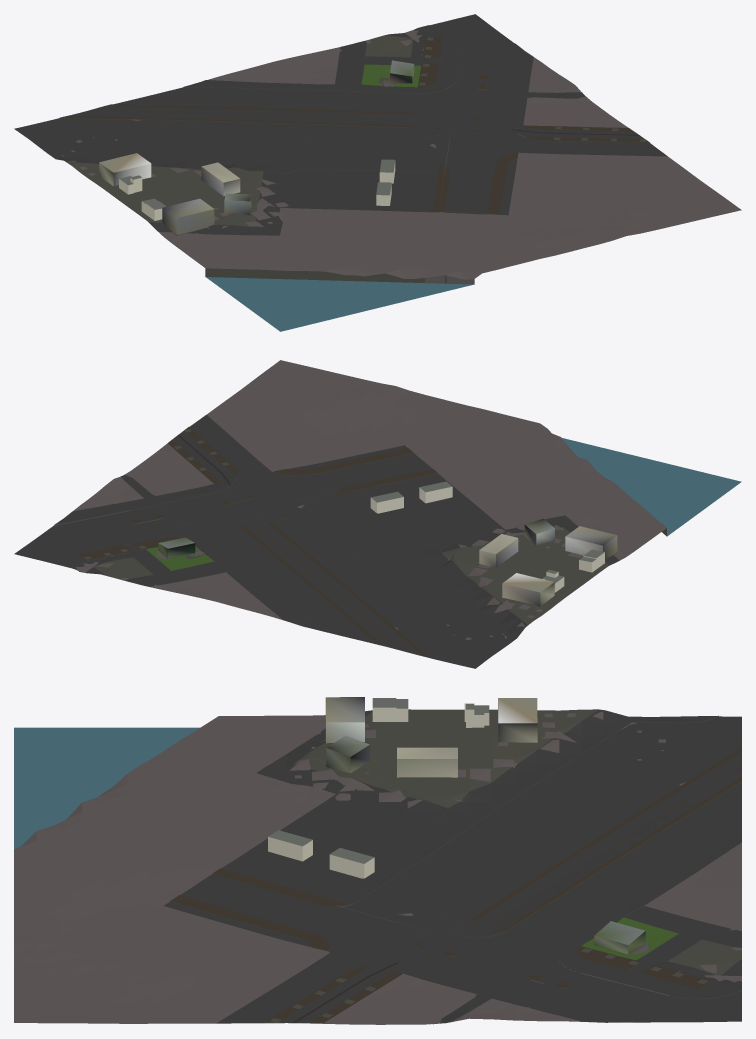
3 views of the same model, one above another, from view 1: azimuth 30°, elevation 25°; view 2: azimuth 150°, elevation 25°; view 3: azimuth 270°, elevation 25° (orthographic). The views are drawn at different scales.
Parts seen in each view (by area): view 1: c_p03_p02; view 2: c_p03_p02; view 3: c_p03_p02.
Part boxes in pixels (<box>): c_p03_p02: <box>14,14,741,331</box>; c_p03_p02: <box>14,360,741,668</box>; c_p03_p02: <box>14,697,741,1024</box>.
Bounding box in the file's own units: 128 × 7.3 × 128.
